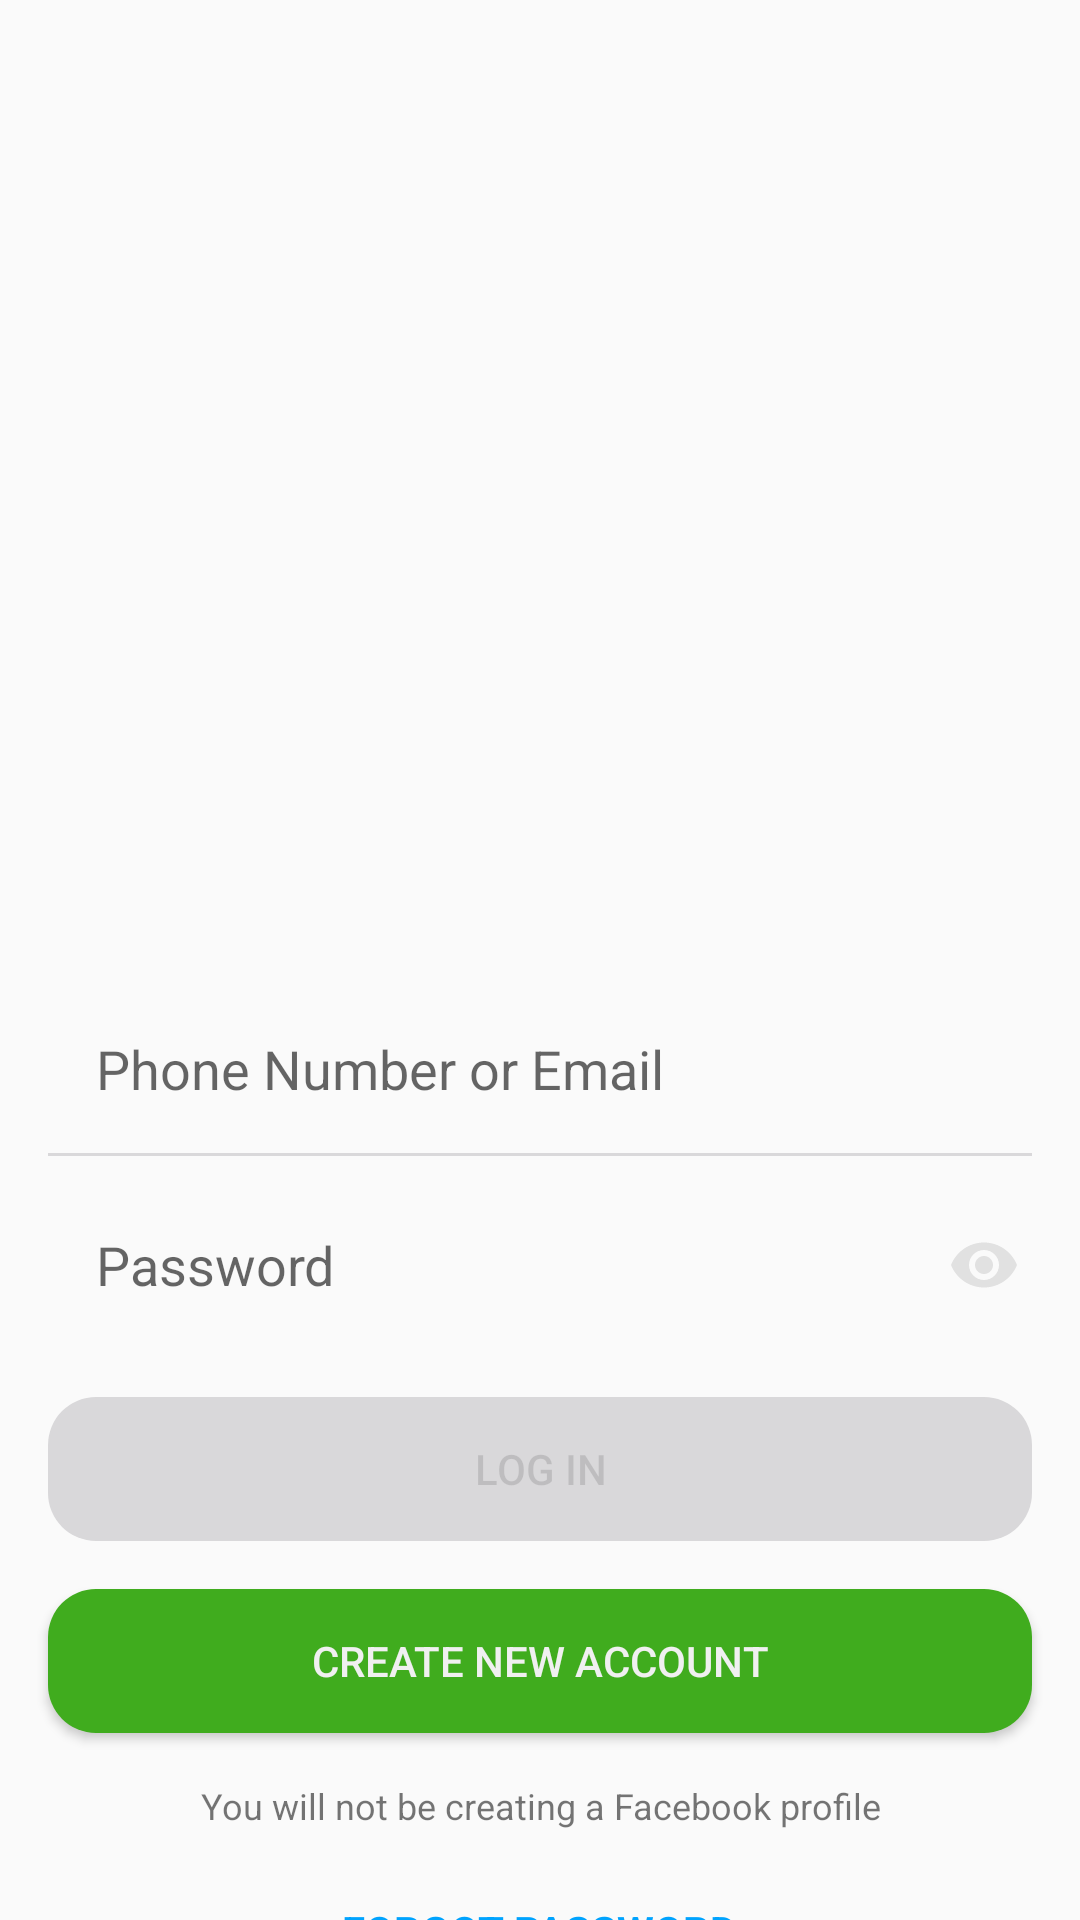

Named icons in this screenshot (1080 x 1920) and their bounding boxes, (x1, y1, x2, y2):
eye: (952, 1243, 1016, 1287)
